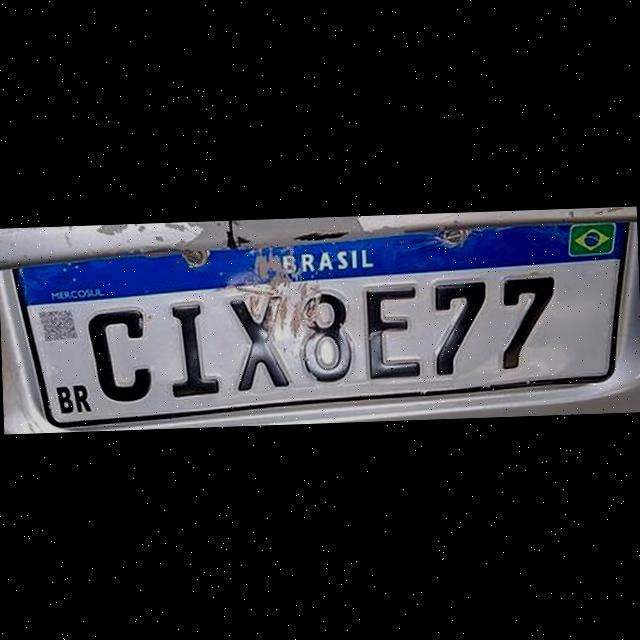Caractere: (227, 291, 294, 393), (86, 304, 154, 402), (428, 277, 491, 377), (294, 289, 358, 385), (496, 270, 556, 372), (362, 282, 422, 381), (168, 298, 220, 399)
Placa: (15, 218, 629, 430)
